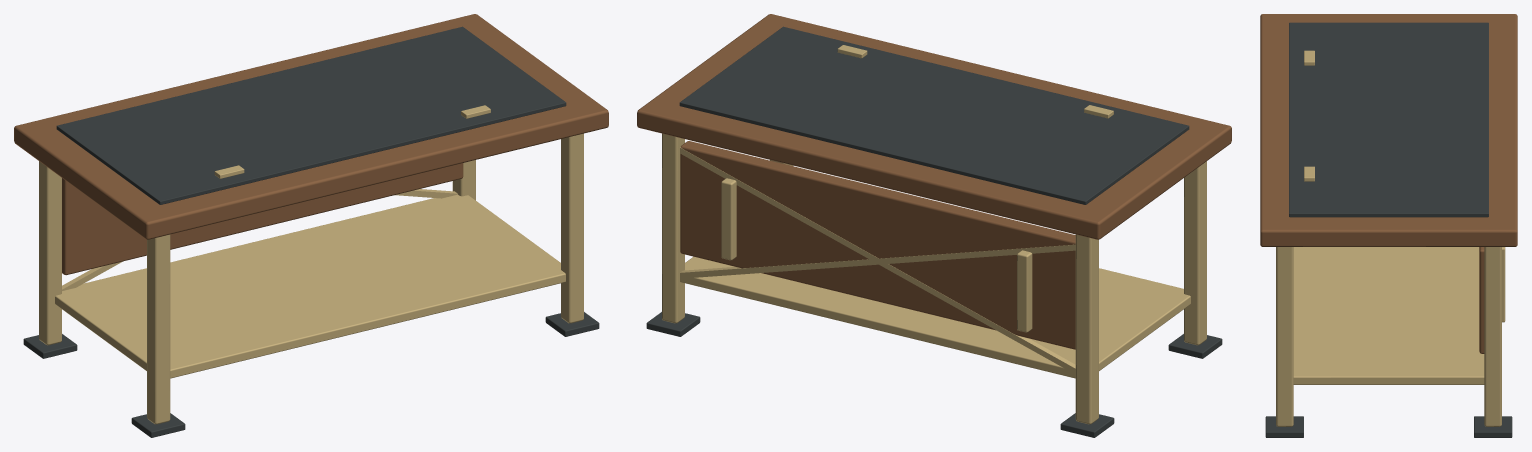
File: tribunal_mesa_defesa.glb
3 renders of one model, left to right at view 1: azimuth 30°, elevation 25°; view 2: azimuth 150°, elevation 25°; view 3: azimuth 270°, elevation 25°, orthographic. The views are drawn at different scales.
Parts seen in each view (by area): view 1: city-courthouse-and-records-office-counsel-table; view 2: city-courthouse-and-records-office-counsel-table; view 3: city-courthouse-and-records-office-counsel-table.
Boxes of the visible parts, bbox=[...] form: city-courthouse-and-records-office-counsel-table: bbox=[14, 14, 608, 437]; city-courthouse-and-records-office-counsel-table: bbox=[637, 14, 1231, 437]; city-courthouse-and-records-office-counsel-table: bbox=[1260, 14, 1517, 437].
Size of the model in its own units: 1.88 by 0.881 by 0.9401.
